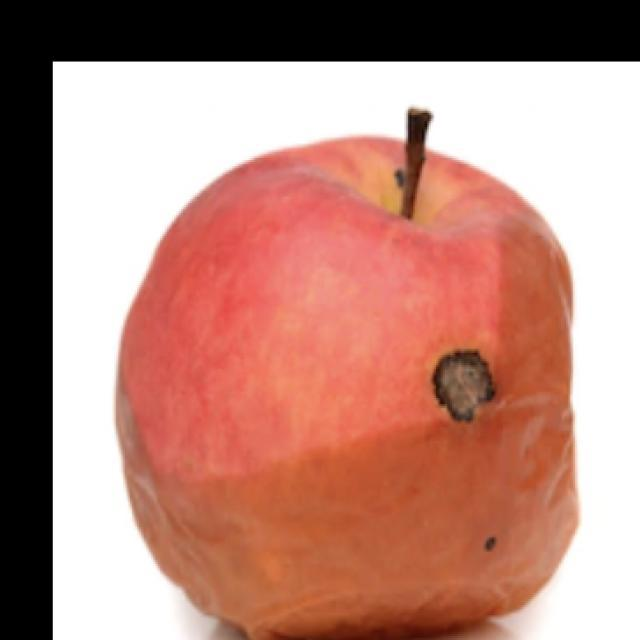Rotten: (132, 150, 592, 640)
